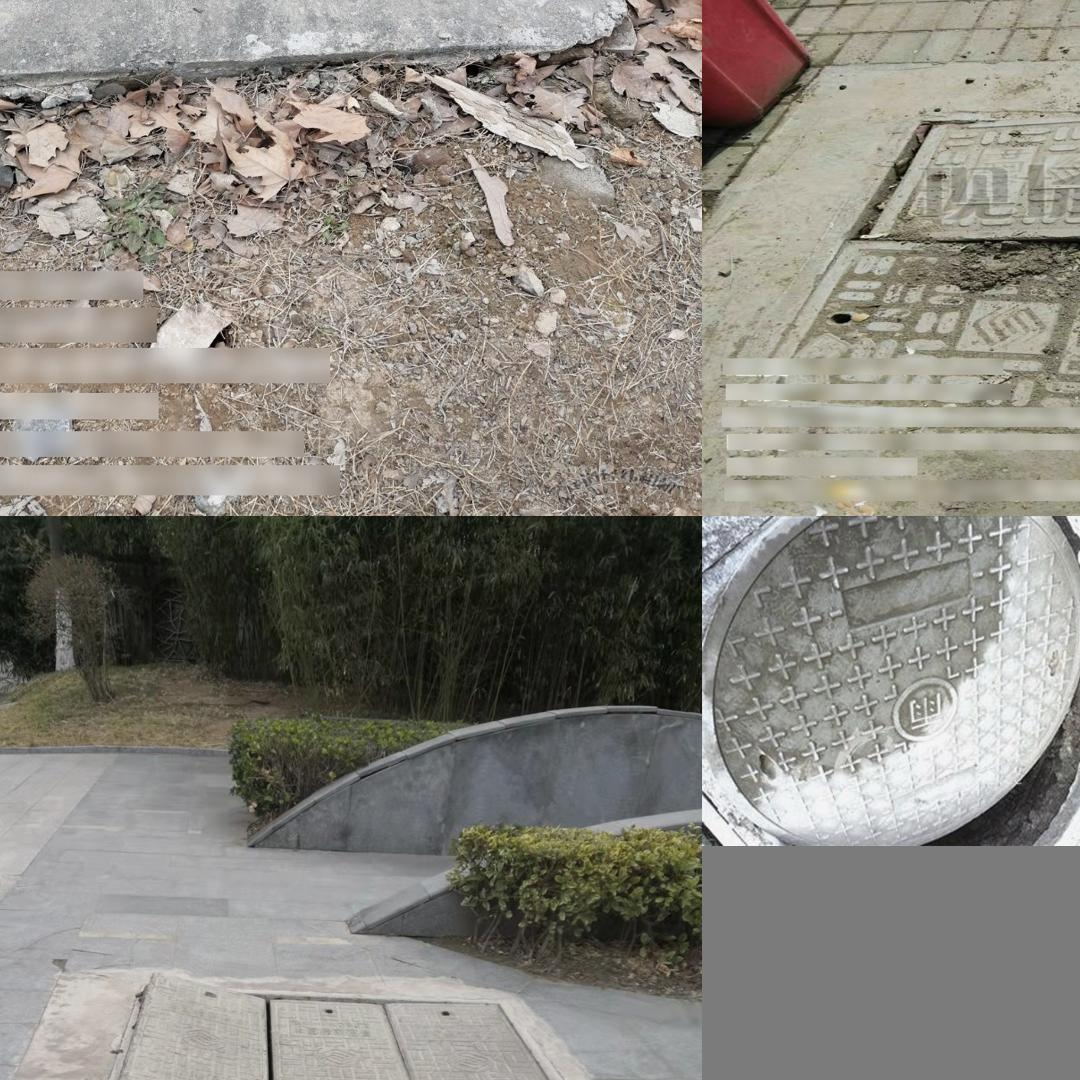uncovered: (738, 104, 1080, 453), (711, 519, 1080, 842), (91, 976, 602, 1080)
